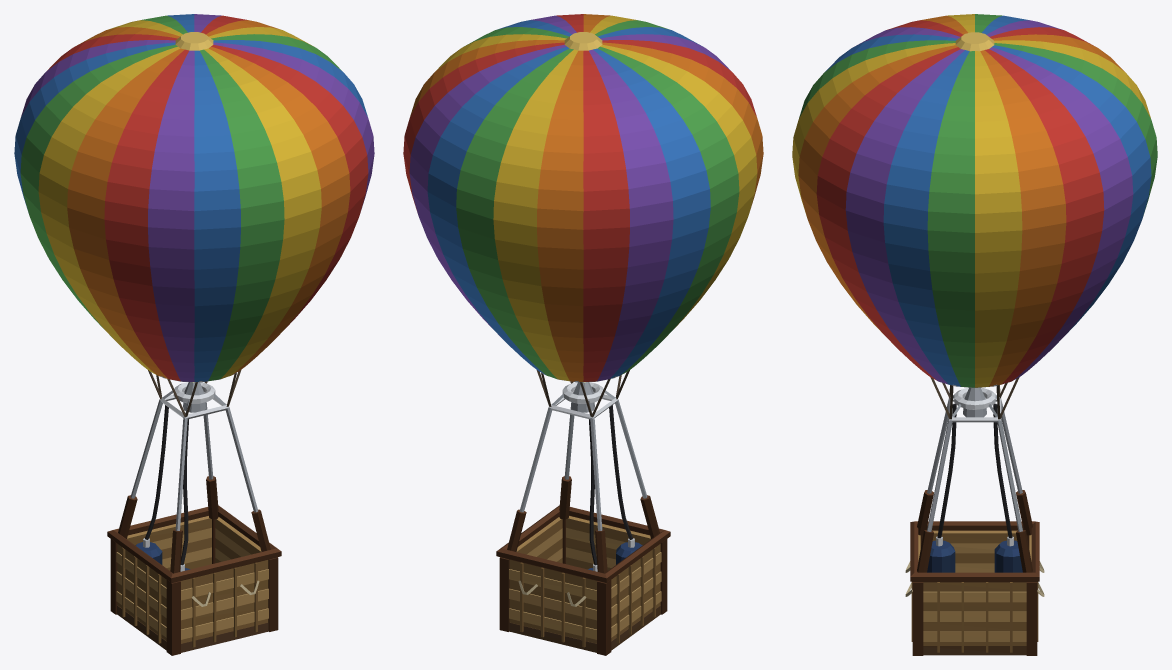
File: mt_balloon_rainbow.glb
The picture shows the model from 3 angles, left to right: view 1: azimuth 30°, elevation 25°; view 2: azimuth 150°, elevation 25°; view 3: azimuth 270°, elevation 25°; orthographic projection.
Parts seen in each view (by area): view 1: envelope_m, base; view 2: envelope_m, base; view 3: envelope_m, base.
Part boxes in pixels (box(x1,y1,x2,y2)): envelope_m: box(14, 14, 374, 382); base: box(107, 370, 281, 655); envelope_m: box(403, 14, 763, 382); base: box(496, 370, 670, 655); envelope_m: box(792, 14, 1157, 387); base: box(905, 377, 1044, 655).
Bounding box in the file's own units: 0.9029 × 1.62 × 0.9029.
